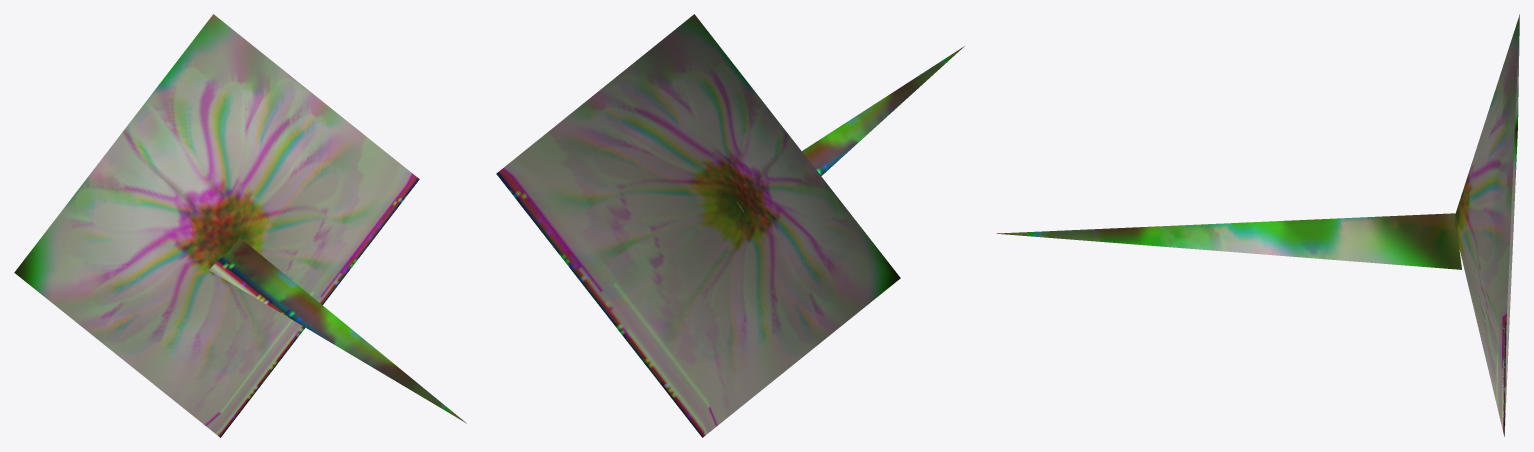
File: daisy.fbx
The picture shows the model from 3 angles, left to right: view 1: azimuth 30°, elevation 25°; view 2: azimuth 150°, elevation 25°; view 3: azimuth 270°, elevation 25°; orthographic projection. The views are drawn at different scales.
Parts seen in each view (by area): view 1: Plane; view 2: Plane; view 3: Plane.
Part boxes in pixels (bbox=[...]): Plane: bbox=[14, 14, 466, 437]; Plane: bbox=[496, 14, 964, 437]; Plane: bbox=[997, 14, 1519, 436].
Bounding box in the file's own units: 0.4306 × 0.4305 × 0.4836.
